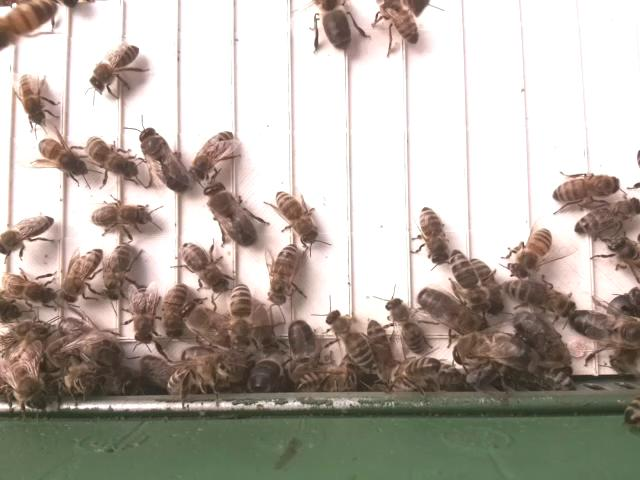Drone: (202, 180, 262, 248), (412, 287, 491, 338), (138, 123, 191, 195), (566, 303, 640, 352)
Worker: (570, 194, 640, 241), (502, 275, 577, 315), (325, 307, 371, 371), (0, 210, 59, 259), (88, 44, 145, 94), (274, 187, 320, 246), (59, 248, 105, 307), (85, 135, 140, 183), (179, 240, 230, 291), (191, 128, 238, 182), (549, 172, 621, 207), (383, 294, 424, 355), (101, 240, 139, 305), (89, 199, 155, 235), (35, 135, 89, 179), (450, 247, 487, 311), (0, 271, 62, 309), (414, 203, 450, 268), (512, 223, 554, 278), (129, 278, 159, 350), (269, 243, 302, 307), (228, 279, 255, 355), (14, 70, 49, 127), (162, 281, 194, 343)
